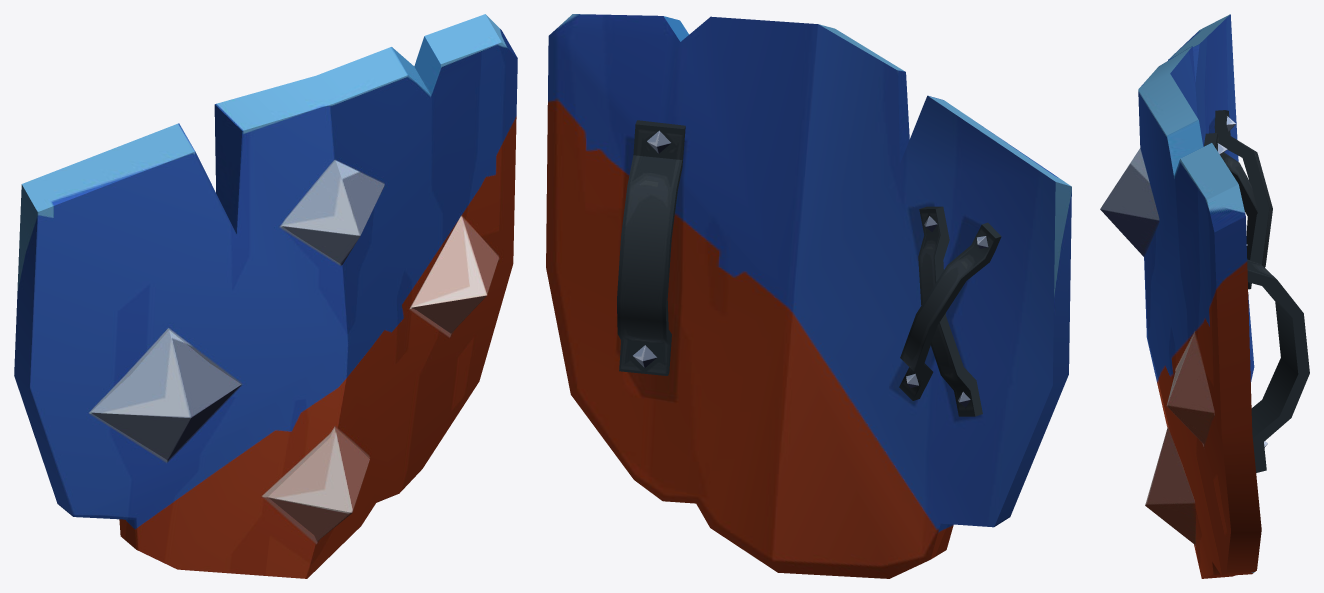
Rendered from Storm_05.FBX.
3 renders of one model, left to right at view 1: azimuth 30°, elevation 25°; view 2: azimuth 150°, elevation 25°; view 3: azimuth 270°, elevation 25°, orthographic. The views are drawn at different scales.
Parts seen in each view (by area): view 1: Storm_05; view 2: Storm_05; view 3: Storm_05.
Part boxes in pixels (x1,y1,x2,y2): Storm_05: (14,14,517,578); Storm_05: (546,14,1071,578); Storm_05: (1100,14,1309,578).
Size of the model in its own units: 52.49 by 52.91 by 20.06.
